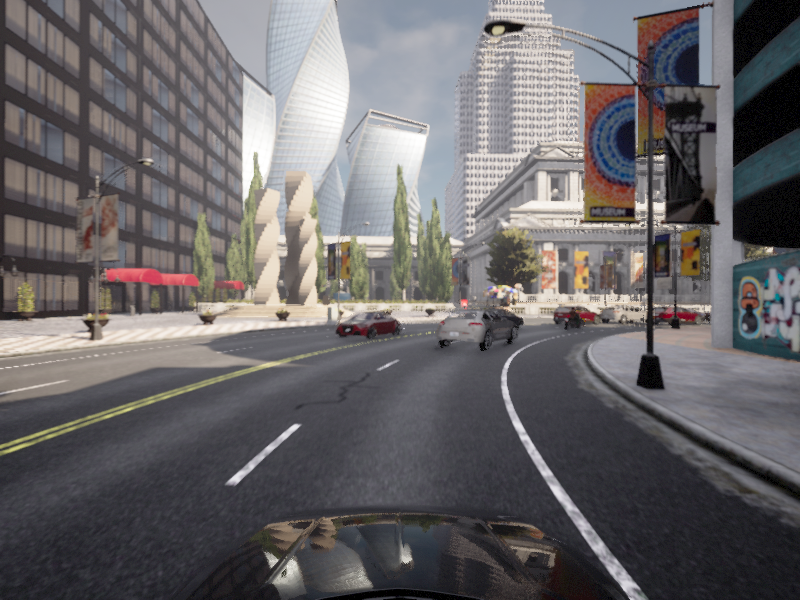vehicle: (430, 308, 520, 353), (330, 310, 404, 341), (465, 307, 527, 332), (700, 305, 771, 325), (643, 305, 707, 326), (548, 305, 604, 326), (595, 305, 655, 324), (648, 307, 713, 323), (560, 306, 587, 331)
